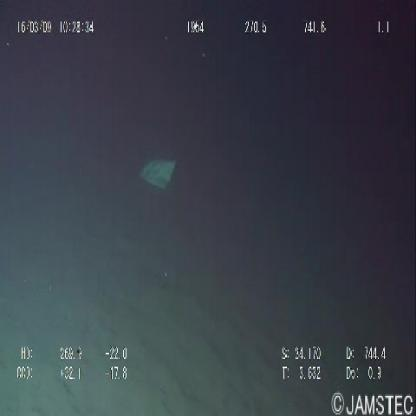Rác: (136, 150, 179, 198)
